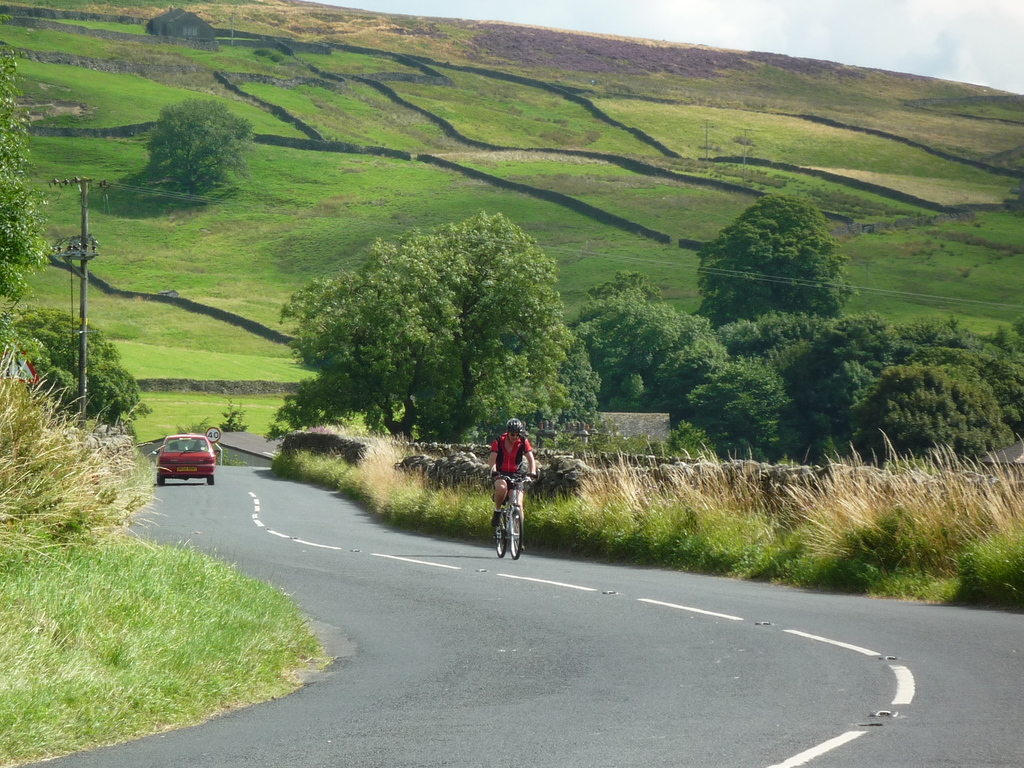Bike: (464, 467, 536, 567)
